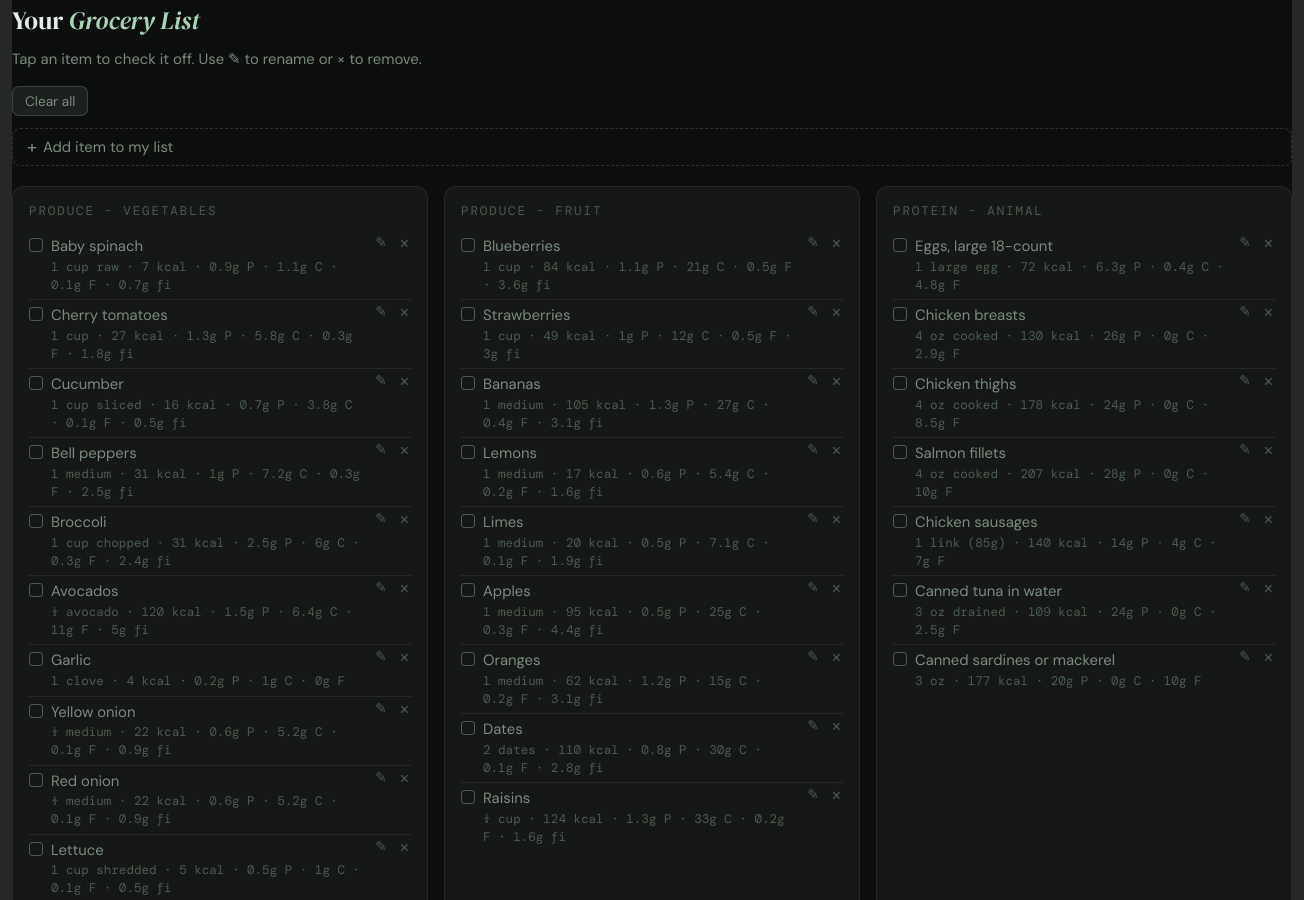
GroceryPanel — dynamic catalog › clicking × removes the item from the list
Click the button with aria-label "add grocery item": [108, 147] box [12,128,1292,166]
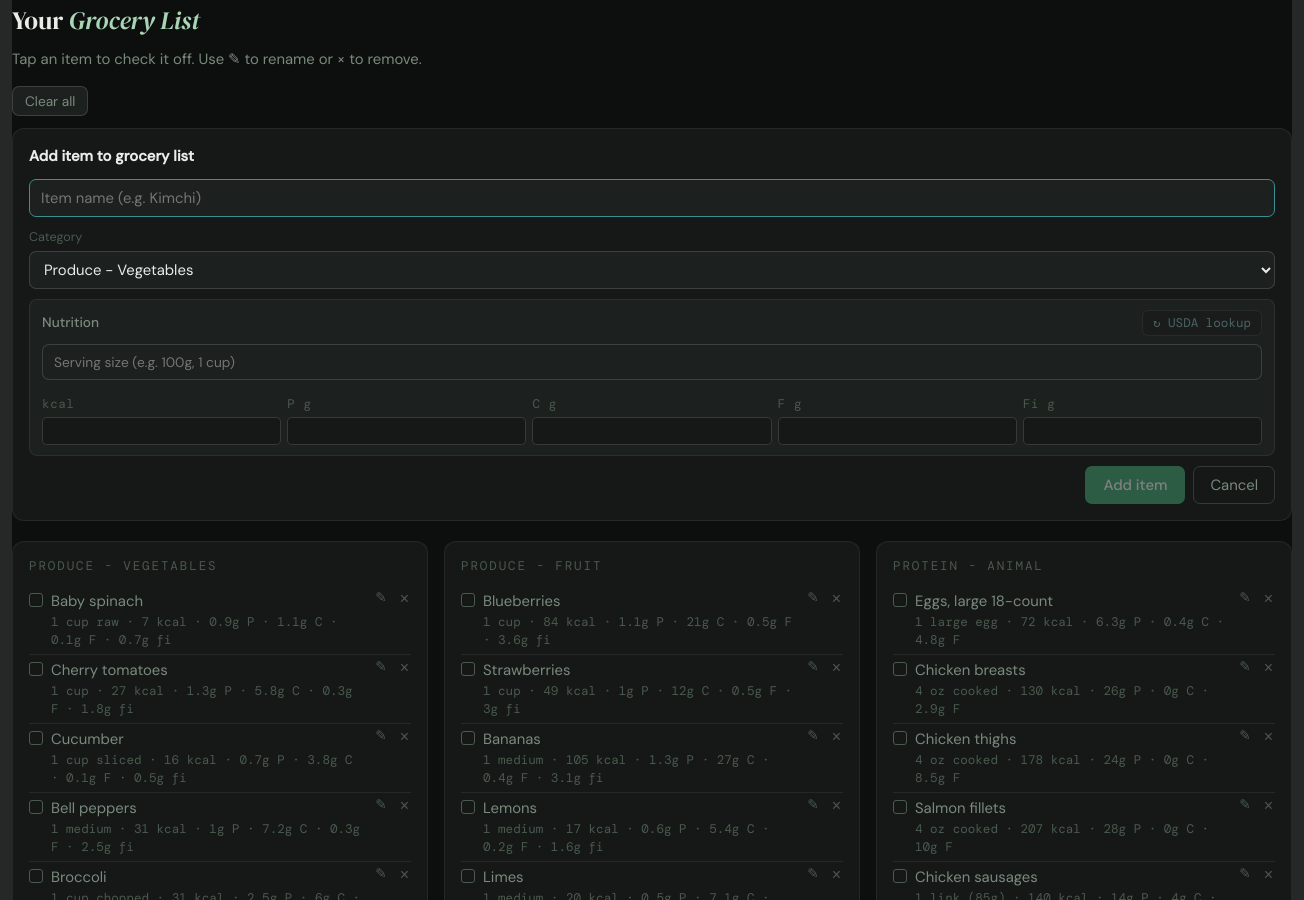
In the field with placeholder "Item name (e.g. Kimchi)": [652, 198] box [29,179,1275,217], type "Natto"
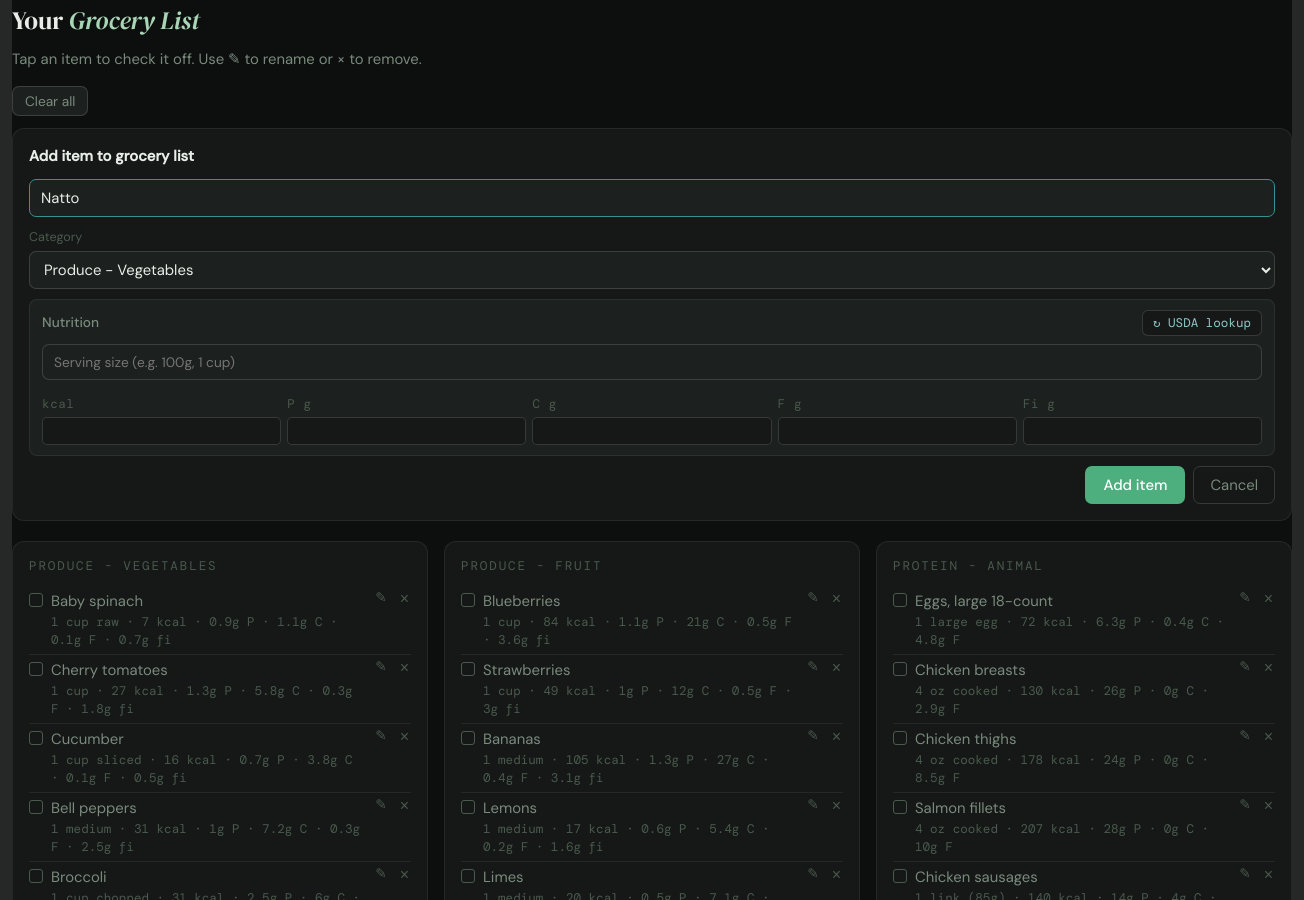
Click the button "Add item": [1136, 485] box [1086,466,1186,504]
(page scrolled)
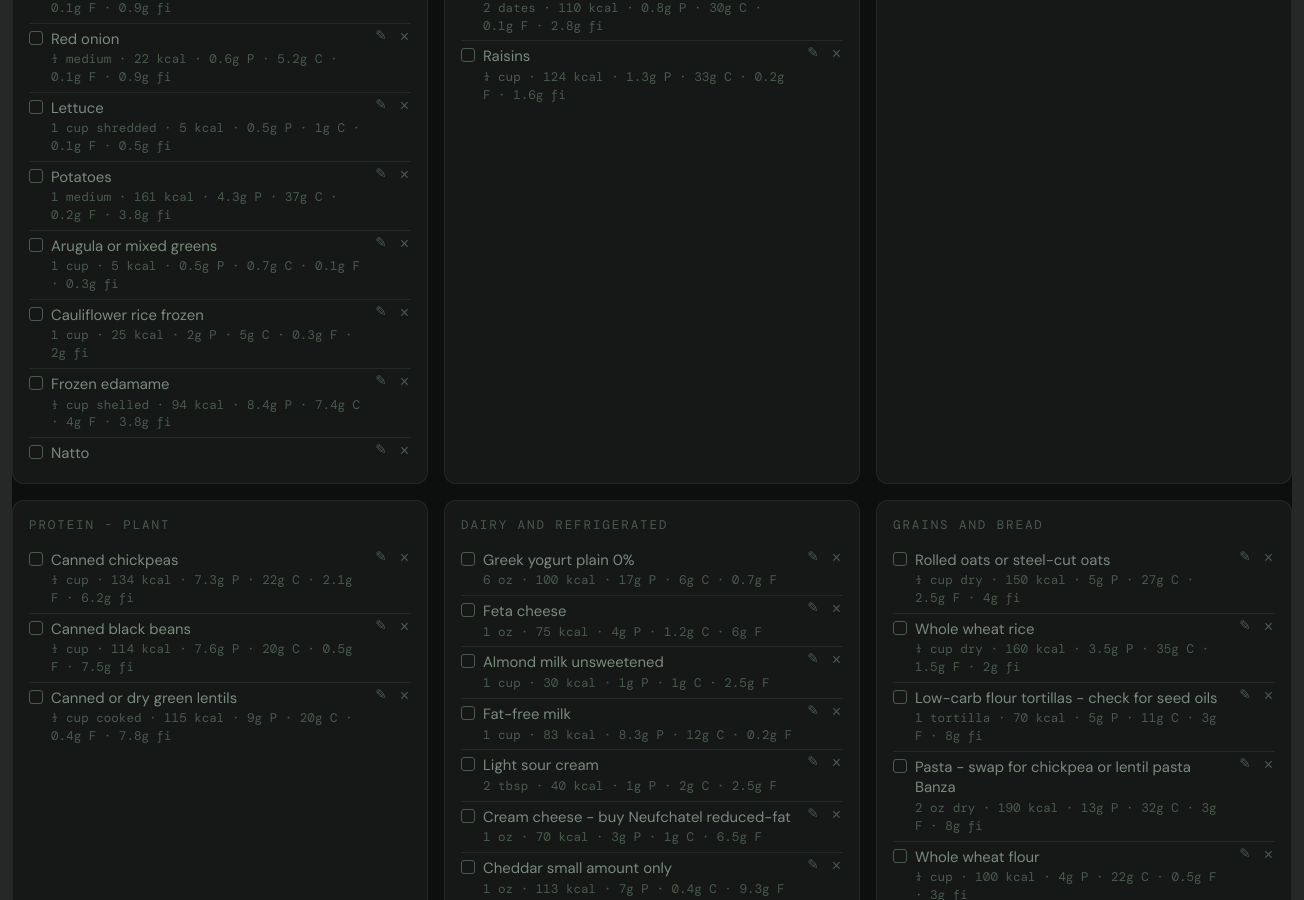
Check: the text "Natto" is shown, box [51,443,89,463]
Click the button named "Remove Natto": [404, 451] box [398,443,411,459]
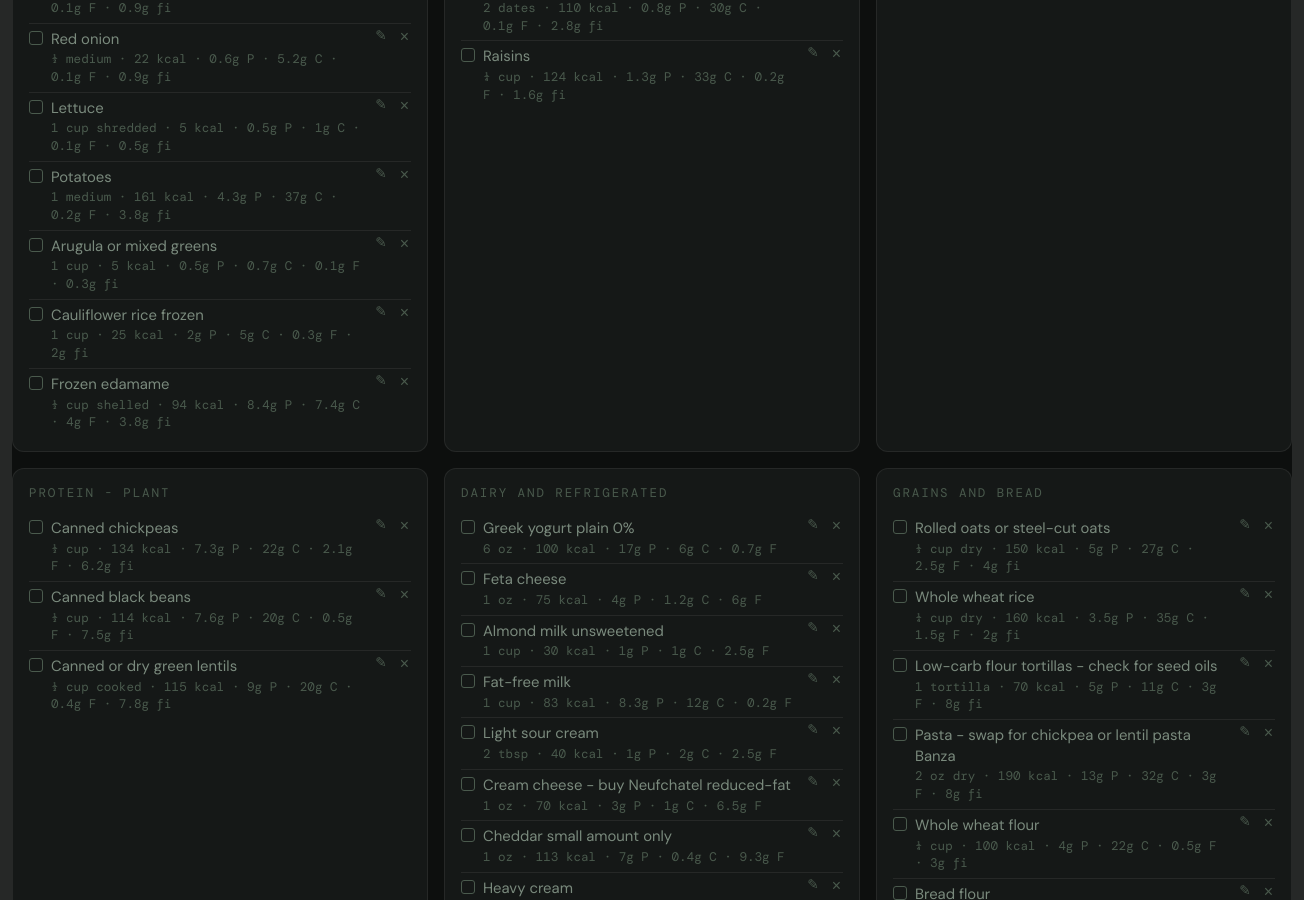
Check: the text "Natto" is gone
